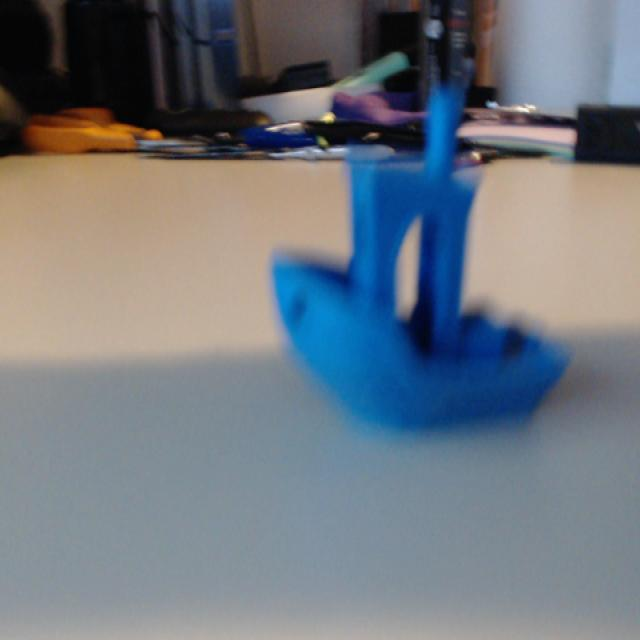benchy: (266, 145, 573, 436)
